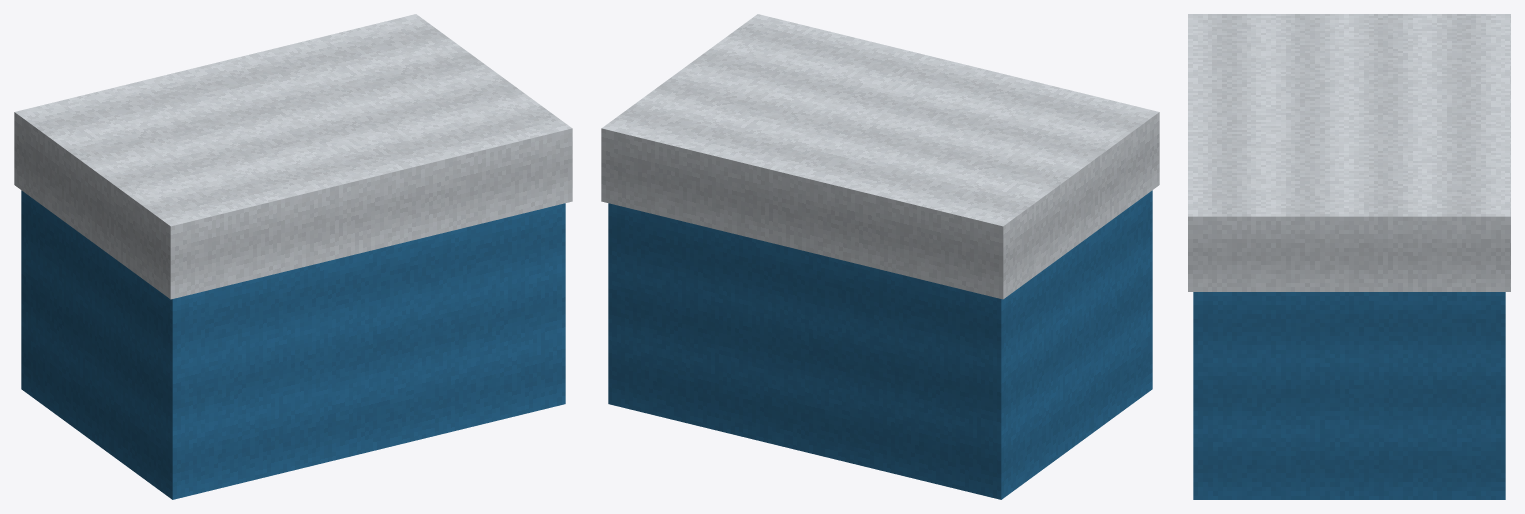
File: cooler.glb
3 views of the same model, side by side, from view 1: azimuth 30°, elevation 25°; view 2: azimuth 150°, elevation 25°; view 3: azimuth 270°, elevation 25° (orthographic). The views are drawn at different scales.
Parts seen in each view (by area): view 1: body, lid_nocollide; view 2: body, lid_nocollide; view 3: lid_nocollide, body.
Boxes of the visible parts, left/top/right/bottom form: body: left=21, top=190, right=565, bottom=499; lid_nocollide: left=14, top=14, right=572, bottom=299; body: left=608, top=190, right=1152, bottom=499; lid_nocollide: left=601, top=14, right=1159, bottom=299; lid_nocollide: left=1188, top=14, right=1510, bottom=291; body: left=1193, top=292, right=1505, bottom=499.
Size of the model in its own units: 0.92 by 0.605 by 0.62.
Materials: 2 (2 with a texture image).
